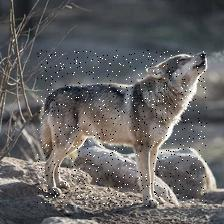WOLF: (37, 51, 207, 207)
